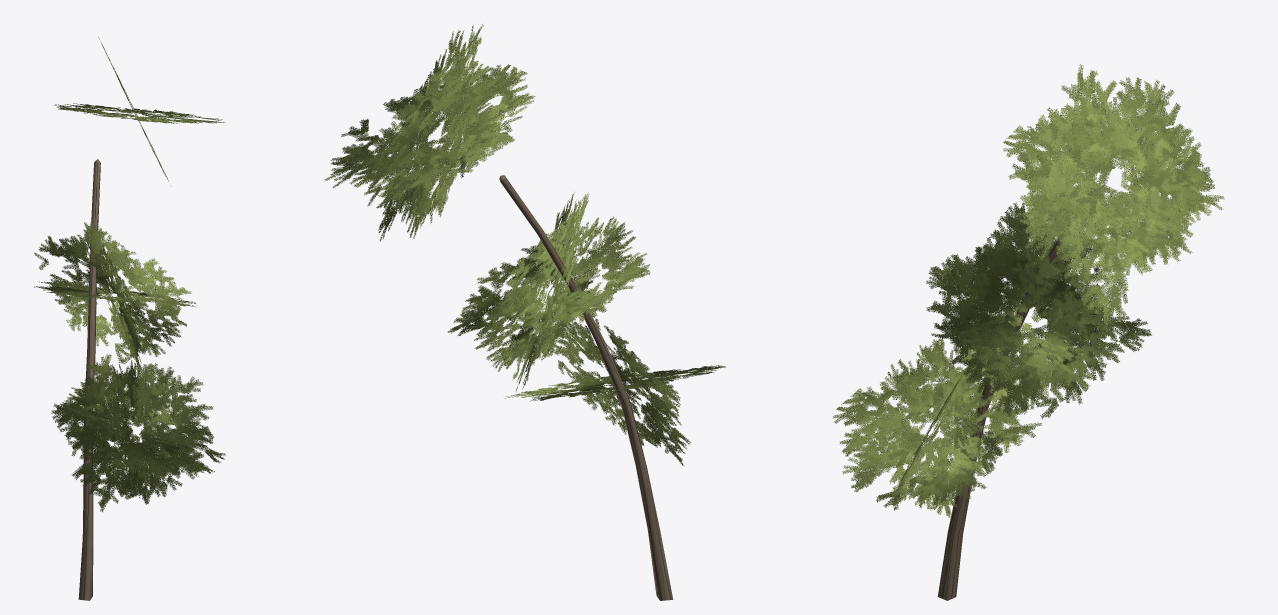
The model's file is seedling-b.lod0.glb.
3 renders of one model, left to right at view 1: azimuth 30°, elevation 25°; view 2: azimuth 150°, elevation 25°; view 3: azimuth 270°, elevation 25°, orthographic. The views are drawn at different scales.
Parts seen in each view (by area): view 1: foliage, bark; view 2: foliage, bark; view 3: foliage, bark.
Part boxes in pixels (x1=…): foliage: x1=34, y1=37, x2=225, y2=511; bark: x1=78, y1=159, x2=100, y2=600; foliage: x1=324, y1=24, x2=725, y2=465; bark: x1=499, y1=175, x2=673, y2=600; foliage: x1=833, y1=64, x2=1224, y2=517; bark: x1=937, y1=191, x2=1093, y2=600.
Bounding box in the file's own units: 0.2049 × 0.35 × 0.2487.
2 materials, 2 textured.
